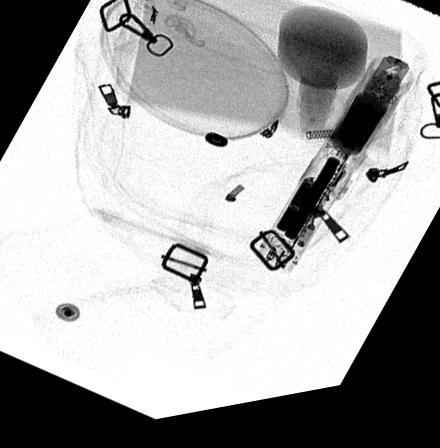Baton: (252, 68, 417, 286)
